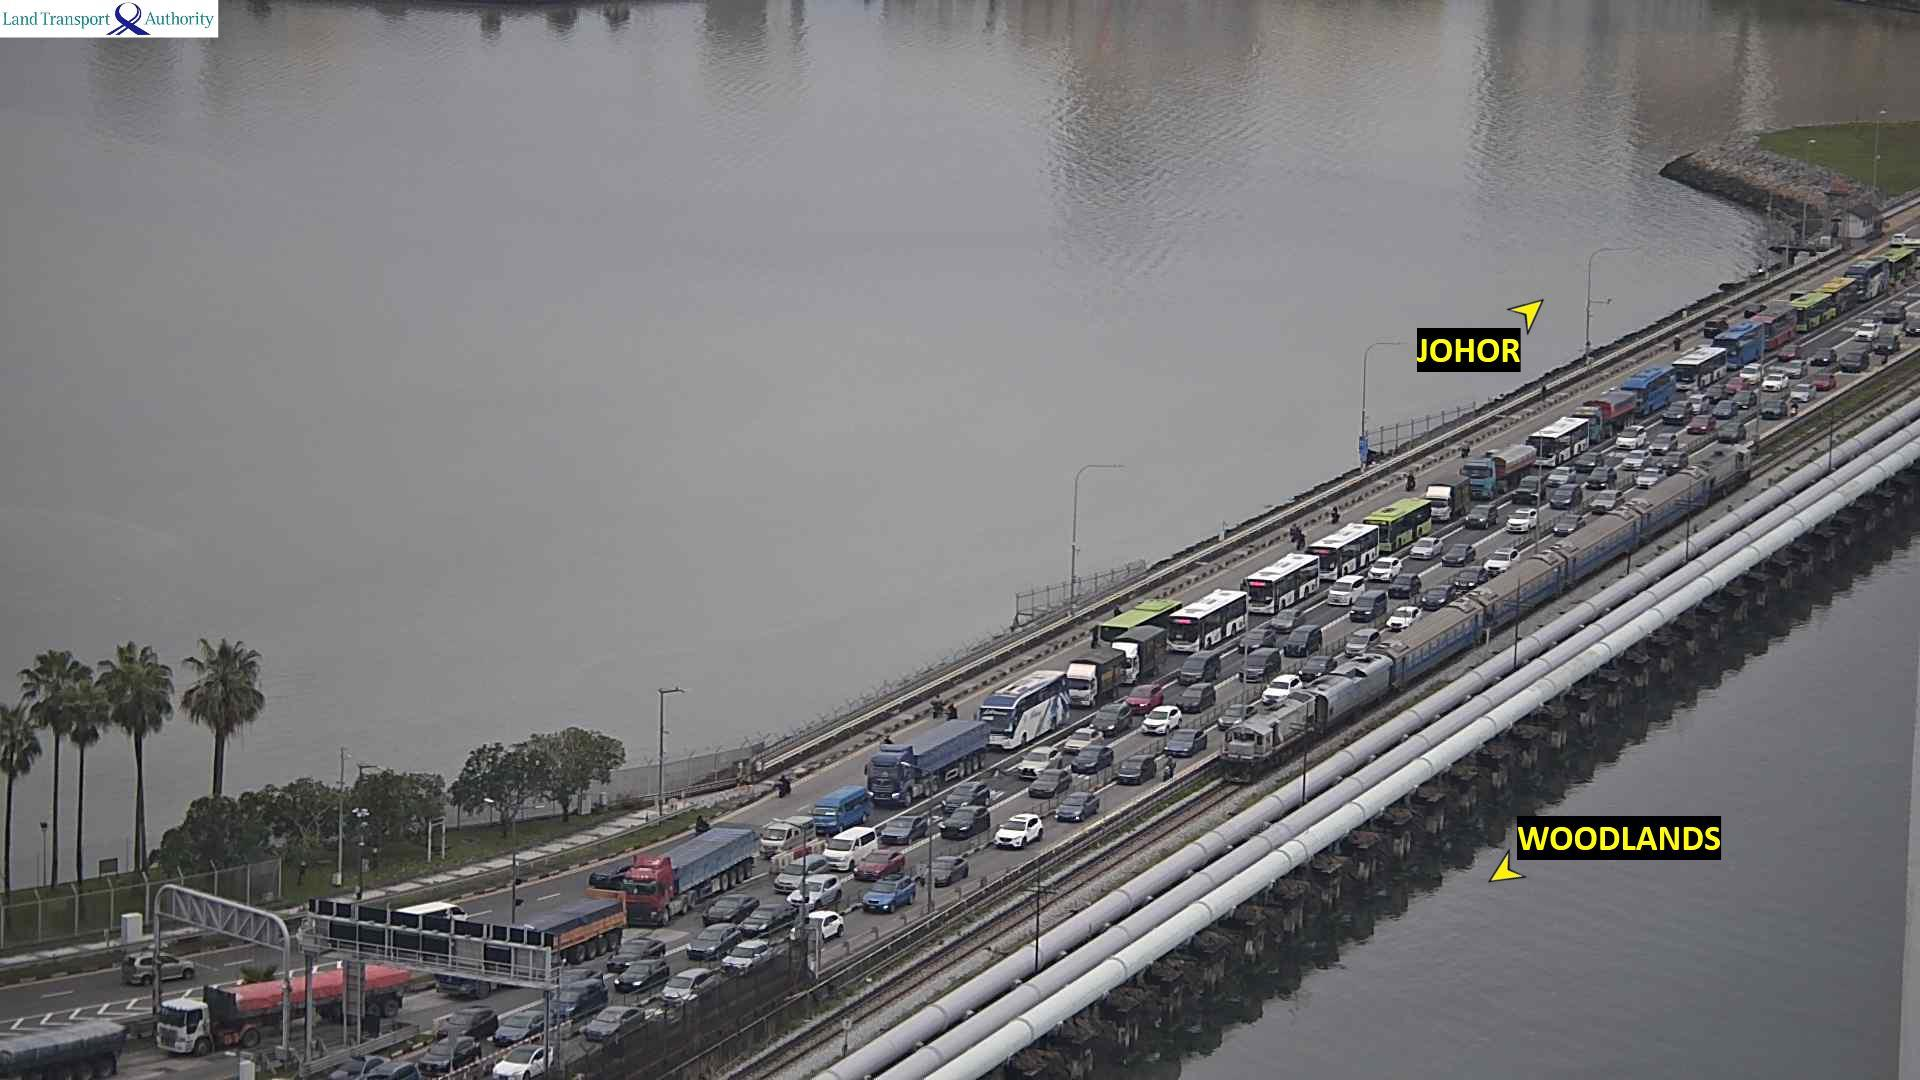vehicle-causeway-johor: (1101, 607, 1179, 640), (121, 953, 195, 980), (392, 901, 469, 919), (589, 861, 626, 884), (778, 774, 794, 798), (1290, 522, 1304, 547), (1705, 319, 1726, 335), (1403, 468, 1416, 492), (931, 695, 944, 716), (1890, 235, 1908, 248), (1745, 303, 1767, 314), (695, 814, 707, 832), (1458, 442, 1470, 459), (948, 703, 959, 720), (1672, 335, 1681, 349), (1331, 506, 1340, 520)
vehicle-causeway-singapore: (148, 961, 410, 1042), (448, 901, 625, 975), (620, 835, 754, 913), (1056, 633, 1167, 704), (872, 736, 982, 802), (0, 1033, 120, 1080), (1171, 592, 1254, 649), (1242, 558, 1327, 607), (1309, 525, 1379, 576), (1367, 500, 1431, 551), (1528, 417, 1604, 459), (1466, 447, 1536, 492), (1795, 278, 1854, 330), (807, 785, 872, 829), (417, 1040, 484, 1075), (1581, 390, 1639, 429), (539, 985, 607, 1017), (580, 1010, 650, 1040), (779, 872, 847, 902), (1671, 351, 1731, 384), (719, 943, 789, 971), (1716, 323, 1762, 364), (1427, 475, 1468, 518), (1751, 307, 1793, 348), (849, 855, 906, 885), (1274, 622, 1324, 657), (737, 907, 804, 932), (857, 882, 914, 911), (686, 931, 744, 959), (612, 964, 673, 990), (997, 818, 1048, 848), (794, 909, 843, 940), (1048, 793, 1104, 820), (1631, 368, 1668, 409), (936, 810, 989, 837), (1160, 732, 1211, 760), (1878, 247, 1916, 282), (1849, 260, 1884, 298), (827, 827, 878, 853), (758, 820, 810, 847), (707, 894, 761, 919), (1060, 749, 1113, 774), (1183, 649, 1220, 684), (1138, 705, 1180, 736), (923, 856, 969, 884), (1327, 575, 1365, 605), (884, 815, 927, 841), (1027, 775, 1076, 798), (1386, 608, 1429, 633), (1114, 762, 1159, 786), (1092, 707, 1130, 735), (1242, 650, 1279, 678), (1352, 591, 1389, 618), (1267, 676, 1302, 705), (1062, 729, 1101, 754), (1141, 715, 1187, 736), (1022, 748, 1059, 774), (1298, 657, 1335, 682), (1129, 682, 1160, 711), (1411, 587, 1448, 611), (1185, 683, 1216, 711), (1486, 549, 1519, 574), (1513, 477, 1545, 502), (1345, 630, 1375, 655), (1371, 558, 1402, 582), (1218, 707, 1254, 727), (1507, 508, 1534, 533), (1664, 400, 1691, 425), (1408, 538, 1441, 558), (1444, 543, 1474, 564), (1465, 505, 1495, 526), (1393, 575, 1419, 599), (1617, 426, 1646, 447), (1585, 496, 1623, 512), (1646, 443, 1687, 458), (1586, 468, 1614, 489), (1555, 516, 1585, 534), (1551, 487, 1577, 508), (1840, 349, 1867, 369), (1617, 455, 1654, 469), (1635, 469, 1664, 488), (1875, 306, 1904, 323), (1551, 465, 1575, 484), (1687, 392, 1710, 410), (1720, 425, 1746, 440), (1762, 400, 1784, 418), (1785, 390, 1817, 402), (1871, 336, 1899, 349), (1742, 363, 1759, 384), (1857, 324, 1878, 340), (1809, 349, 1834, 363), (1688, 417, 1714, 429), (1714, 402, 1734, 418), (1764, 375, 1788, 388), (1737, 392, 1756, 406), (1788, 363, 1808, 376), (1813, 375, 1834, 386), (1709, 385, 1727, 398), (1782, 345, 1800, 359)
